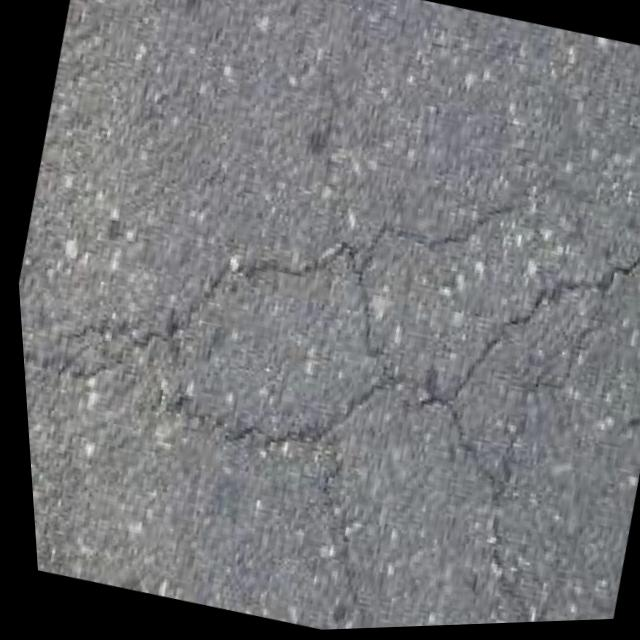Crack: (62, 128, 640, 638)
